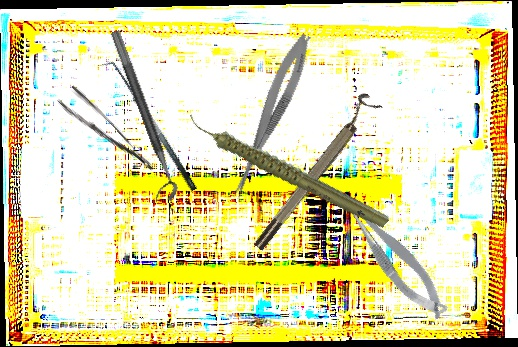Dressing Forceps: (56, 83, 156, 185)
Fixation Ring: (244, 90, 384, 254), (96, 29, 182, 206)
Handpiece: (184, 73, 393, 265)
Micro Scissor: (330, 175, 453, 330), (226, 30, 317, 204)
Spatula Surgical: (100, 54, 199, 199)
